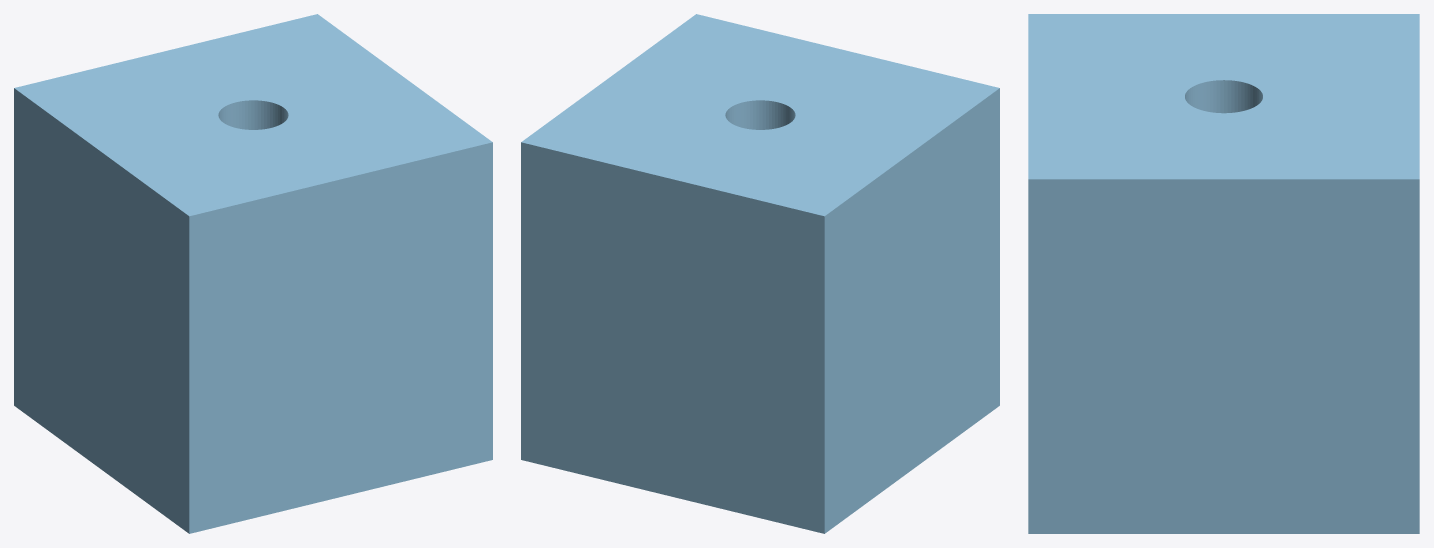
3 views of the same model, side by side, from view 1: azimuth 30°, elevation 25°; view 2: azimuth 150°, elevation 25°; view 3: azimuth 270°, elevation 25° (orthographic). The views are drawn at different scales.
Visible parts, largest first — view 1: 5abfba99c2b35e0f435f5f90; view 2: 5abfba99c2b35e0f435f5f90; view 3: 5abfba99c2b35e0f435f5f90.
Part boxes in pixels (box(x1,y1,x2,y2)): 5abfba99c2b35e0f435f5f90: box(14, 14, 492, 533); 5abfba99c2b35e0f435f5f90: box(521, 14, 999, 533); 5abfba99c2b35e0f435f5f90: box(1028, 14, 1419, 533).
Size of the model in its own units: 0.05 by 0.05 by 0.05.
